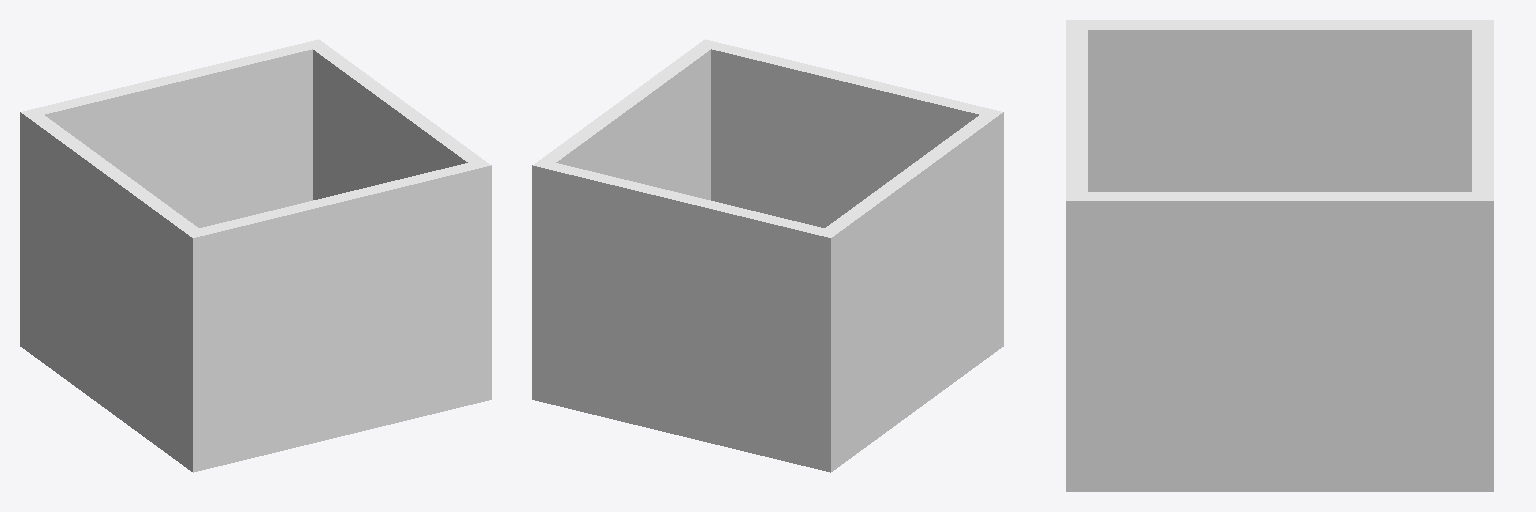
URDF robot description (box):
<?xml version="1.0"?>
<!--
    This is the URDF file for a simple box model.
    It consists of 5 box geometries: A bottom plate and the four walls around but without a lid / top plate.
        - - -  N - - -
        |            |
        W      B     E
        |            |
        - - -  S - - -
     B := Bottom plate (box geometry);
     N := North plate (box geometry);
     S := South plate (box geometry);
     W := West plate (box geometry);
     E := East plate (box geometry);
  -->
<robot name="box">
    <!--
    Define the material or color of the box
    -->
    <material name="white">
        <color rgba="1 1 1 1"/>
    </material>

    <!--
    Define the bottom plate
    -->
    <link name="bottom_plate">
        <inertial>
            <origin rpy="0. 0. 0." xyz="0. 0. 0."/>
            <mass value="1"/>
            <inertia ixx="0." ixy="-0." ixz="0." iyy="0." iyz="0." izz="0."/>
        </inertial>
        <visual>
            <geometry>
                <box size="1. 1. 0.05"/>
            </geometry>
            <origin rpy="0. 0. 0." xyz="0. 0. 0."/>
            <material name="white"/>
        </visual>
        <collision>
            <geometry>
                <box size="1. 1. 0.05"/>
            </geometry>
            <origin rpy="0. 0. 0." xyz="0. 0. 0."/>
        </collision>
    </link>

    <!--
    Define the wall on the east
    -->
    <link name="east_plate">
        <inertial>
            <origin rpy="0. 0. 0." xyz="0. 0. 0."/>
            <mass value="1"/>
            <inertia ixx="0." ixy="-0." ixz="0." iyy="0." iyz="0." izz="0."/>
        </inertial>
        <visual>
            <geometry>
                <box size="0.05 1. 0.75"/>
            </geometry>
            <origin rpy="0. 0. 0." xyz="0. 0. 0."/>
            <material name="white"/>
        </visual>
        <collision>
            <geometry>
                <box size="0.05 1. 0.75"/>
            </geometry>
            <origin rpy="0. 0. 0." xyz="0. 0. 0."/>
        </collision>
    </link>

    <!--
    Define the wall on the west
    -->
    <link name="west_plate">
        <inertial>
            <origin rpy="0. 0. 0." xyz="0. 0. 0."/>
            <mass value="1"/>
            <inertia ixx="0." ixy="-0." ixz="0." iyy="0." iyz="0." izz="0."/>
        </inertial>
        <visual>
            <geometry>
                <box size="0.05 1. 0.75"/>
            </geometry>
            <origin rpy="0. 0. 0." xyz="0. 0. 0."/>
            <material name="white"/>
        </visual>
        <collision>
            <geometry>
                <box size="0.05 1. 0.75"/>
            </geometry>
            <origin rpy="0. 0. 0." xyz="0. 0. 0."/>
        </collision>
    </link>

    <!--
    Define the wall on the south
    -->
    <link name="south_plate">
        <inertial>
            <origin rpy="0. 0. 0." xyz="0. 0. 0."/>
            <mass value="1"/>
            <inertia ixx="0." ixy="-0." ixz="0." iyy="0." iyz="0." izz="0."/>
        </inertial>
        <visual>
            <geometry>
                <box size="0.995 0.05 0.75"/>
            </geometry>
            <origin rpy="0. 0. 0." xyz="0. 0. 0."/>
            <material name="white"/>
        </visual>
        <collision>
            <geometry>
                <box size="0.995 0.05 0.75"/>
            </geometry>
            <origin rpy="0. 0. 0." xyz="0. 0. 0."/>
        </collision>
    </link>

    <!--
    Define the wall on the north
    -->
    <link name="north_plate">
        <inertial>
            <origin rpy="0. 0. 0." xyz="0. 0. 0."/>
            <mass value="1"/>
            <inertia ixx="0." ixy="-0." ixz="0." iyy="0." iyz="0." izz="0."/>
        </inertial>
        <visual>
            <geometry>
                <box size="0.995 0.05 0.75"/>
            </geometry>
            <origin rpy="0. 0. 0." xyz="0. 0. 0."/>
            <material name="white"/>
        </visual>
        <collision>
            <geometry>
                <box size="0.995 0.05 0.7"/>
            </geometry>
            <origin rpy="0. 0. 0." xyz="0. 0. 0."/>
        </collision>
    </link>

    <!--
    Create a joint between each wall and the bottom_plate
    -->
    <joint name="bottom2east" type="fixed">
        <parent link="bottom_plate"/>
        <child link="east_plate"/>
        <origin xyz="0.475 0. 0.25"/>
    </joint>
    <joint name="bottom2west" type="fixed">
        <parent link="bottom_plate"/>
        <child link="west_plate"/>
        <origin xyz="-0.475 0. 0.25"/>
    </joint>
    <joint name="bottom2south" type="fixed">
        <parent link="bottom_plate"/>
        <child link="south_plate"/>
        <origin xyz="0. -0.475 0.25"/>
    </joint>
    <joint name="bottom2north" type="fixed">
        <parent link="bottom_plate"/>
        <child link="north_plate"/>
        <origin xyz="0. 0.475 0.25"/>
    </joint>
</robot>

--- What the picture shows (computed from the rendered views, not written in the file) ---
3 views of the same robot in one strip: view 1: azimuth 30°, elevation 25°; view 2: azimuth 150°, elevation 25°; view 3: azimuth 270°, elevation 25° (orthographic).
Robot: box — 5 links, 4 joints (4 fixed); root link bottom_plate; default pose: every joint at zero.
Visible links, largest first — view 1: south_plate, west_plate, north_plate, east_plate, bottom_plate; view 2: north_plate, west_plate, south_plate, east_plate, bottom_plate; view 3: east_plate, west_plate, bottom_plate, north_plate, south_plate.
Link boxes in pixels (x1,y1,x2,y2): south_plate: (186,162,490,470); west_plate: (20,111,207,472); north_plate: (22,40,326,227); east_plate: (305,39,491,401); bottom_plate: (20,300,491,440); north_plate: (533,162,836,471); west_plate: (816,109,1003,472); south_plate: (697,40,1001,227); east_plate: (532,39,718,402); bottom_plate: (532,300,1003,440); east_plate: (1066,192,1493,491); west_plate: (1066,20,1493,191); bottom_plate: (1066,433,1493,452); north_plate: (1472,30,1493,200); south_plate: (1066,21,1087,200).
Bounding box of the posed robot: 1 × 1 × 0.75 m (x, y, z).
Geometry: primitives only (box / cylinder / sphere), no mesh files.